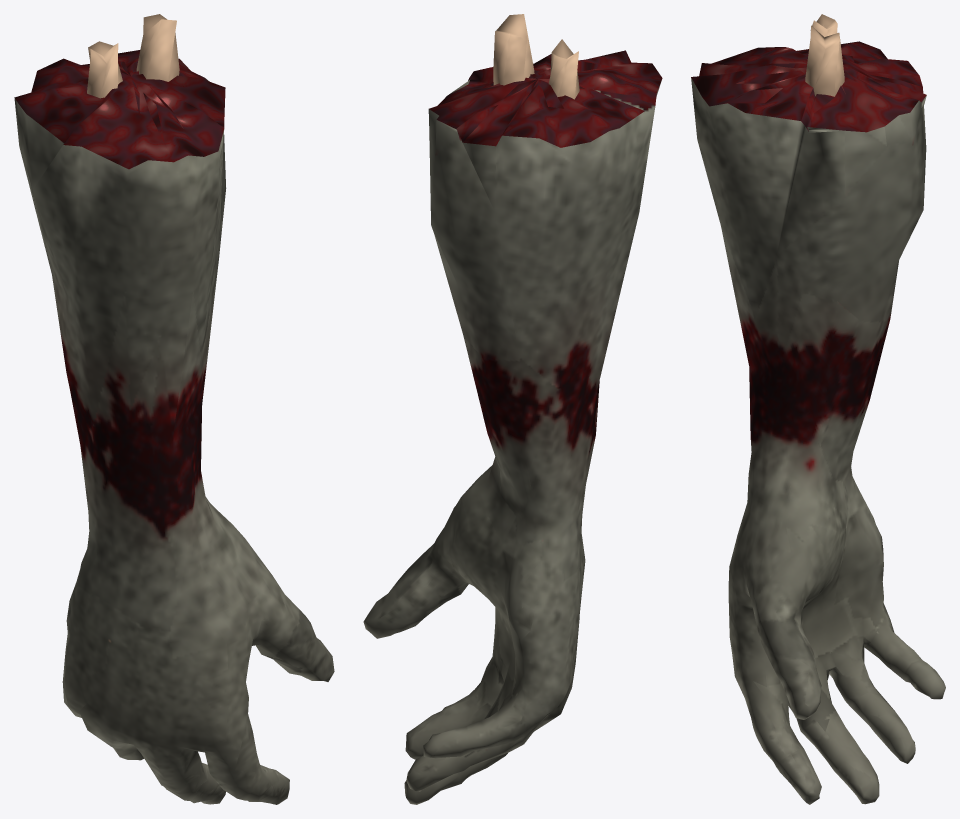
Rendered from mm7_m438_forearm.glb.
The picture shows the model from 3 angles, left to right: view 1: azimuth 30°, elevation 25°; view 2: azimuth 150°, elevation 25°; view 3: azimuth 270°, elevation 25°; orthographic projection. The views are drawn at different scales.
Visible parts, largest first — view 1: Sword; view 2: Sword; view 3: Sword.
Part boxes in pixels (x1,y1,x2,y2): Sword: [14, 14, 334, 804]; Sword: [363, 14, 662, 804]; Sword: [691, 14, 945, 804].
Size of the model in its own units: 0.1661 by 0.4582 by 0.1425.
1 material, 1 textured.
